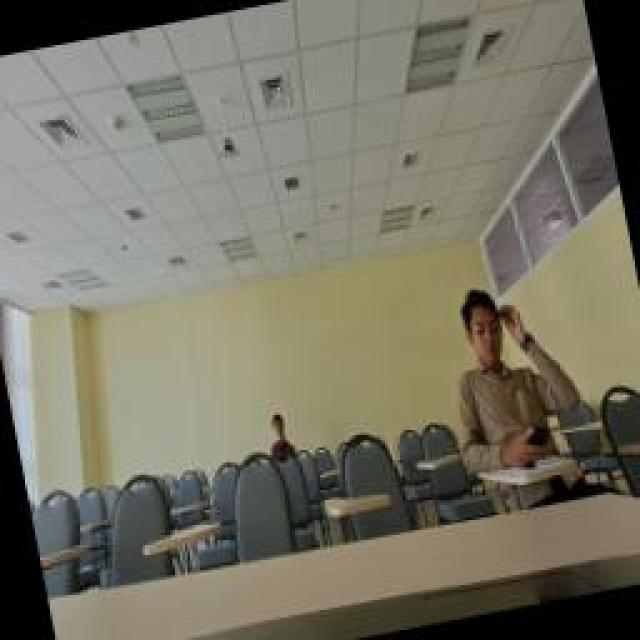phone: (435, 270, 593, 480)
study: (262, 410, 300, 468)
